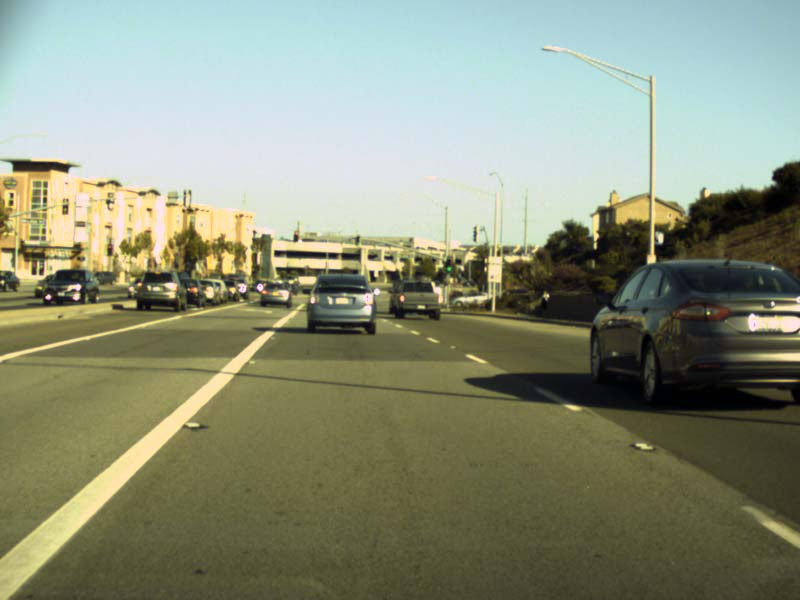Green: (444, 257, 453, 272), (355, 235, 359, 245)
Red: (293, 230, 299, 241)
